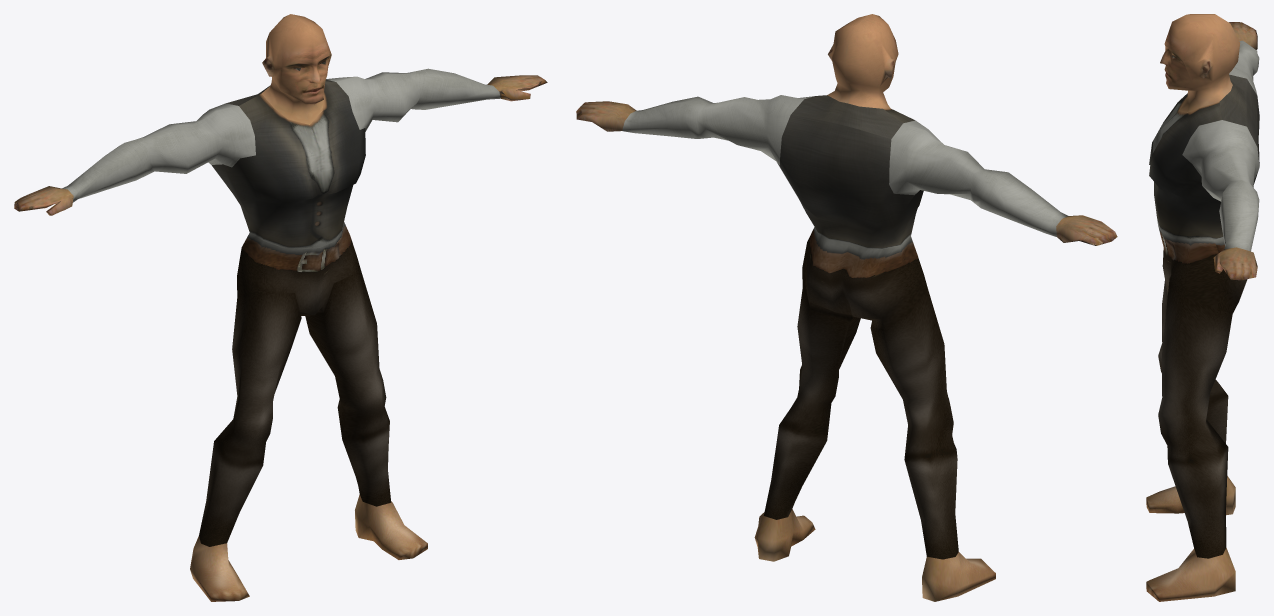
The model's file is duster_7_body.obj.
3 views of the same model, side by side, from view 1: azimuth 30°, elevation 25°; view 2: azimuth 150°, elevation 25°; view 3: azimuth 270°, elevation 25° (orthographic). The views are drawn at different scales.
Parts seen in each view (by area): view 1: duster7_manbody; view 2: duster7_manbody; view 3: duster7_manbody.
Boxes of the visible parts, <box> form: duster7_manbody: <box>14,14,547,601</box>; duster7_manbody: <box>576,14,1117,601</box>; duster7_manbody: <box>1146,14,1259,601</box>.
Size of the model in its own units: 100 by 97.9 by 18.78.
Materials: 1 (1 with a texture image).
